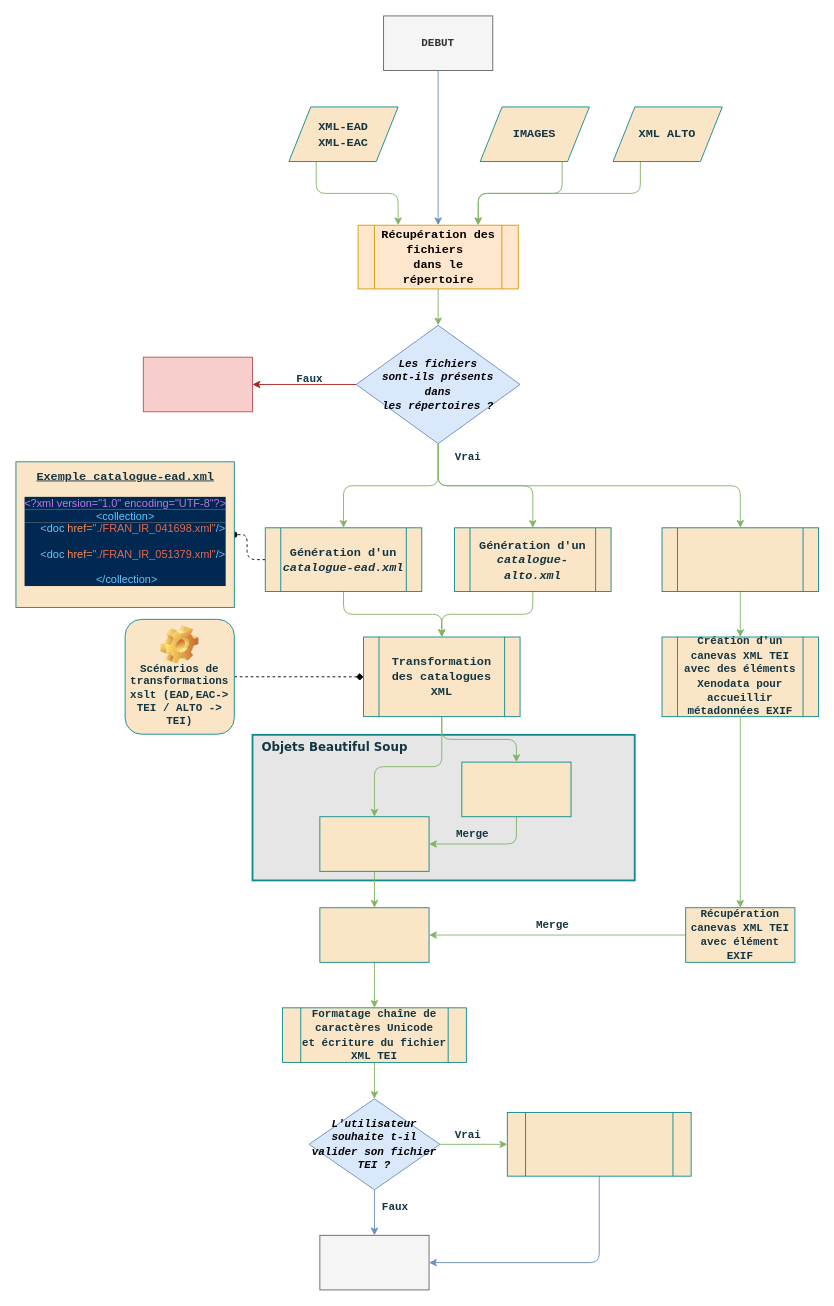
Image size: 834x1306. Some labels were removed from this diagram. Here are the shapes that lost their labels. From the top down, the box of each, then its label:
(142, 356, 253, 412): Fin du programme et log d'erreur
(661, 527, 819, 592): Extraction des métadonnées EXIF dans les images et des noms d'images
(461, 761, 571, 817): Récupération d'un canevas XML TEI avec les éléments ALTO
(319, 816, 429, 871): Récupération d'un canevas XML TEI avec les éléments EAD-EAC
(319, 907, 429, 962): canevas XML TEI avec éléments EAD, EAC, ALTO et EXIF
(506, 1112, 691, 1176): Module de validation schéma RNG et affichage logs succès et erreurs
(319, 1234, 429, 1290): FIN
